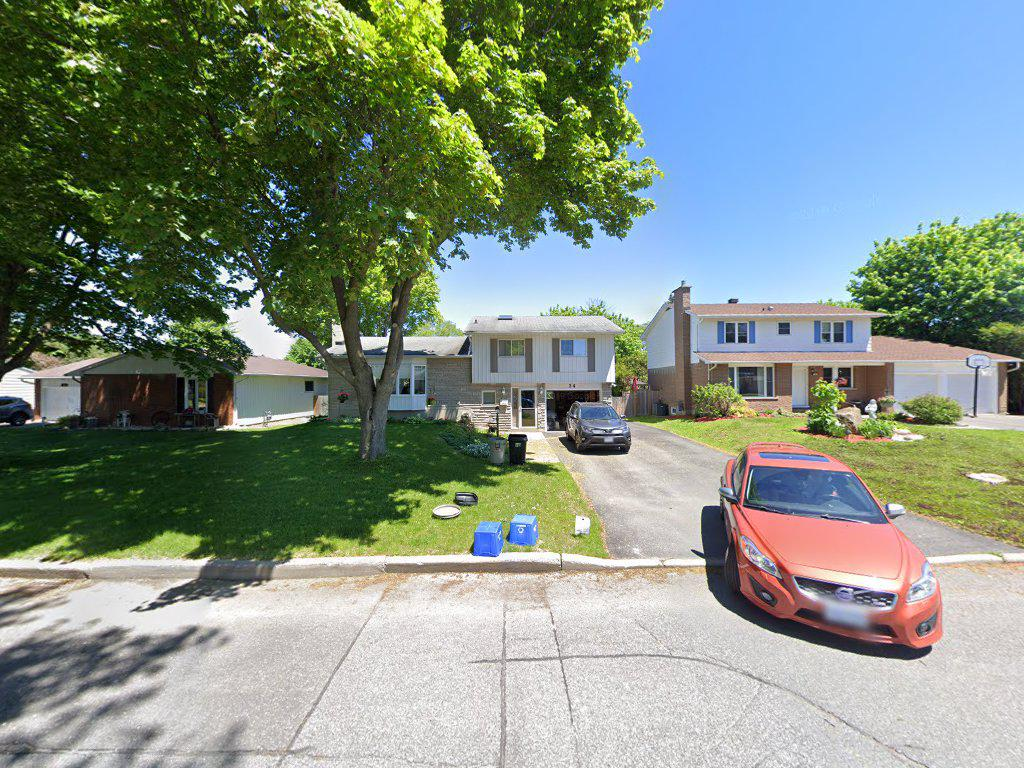trunk: (350, 335, 400, 469)
